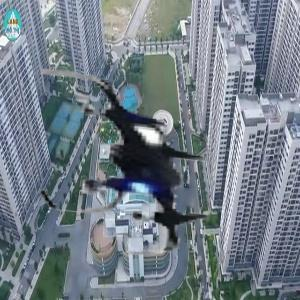drone: (33, 66, 226, 259)
